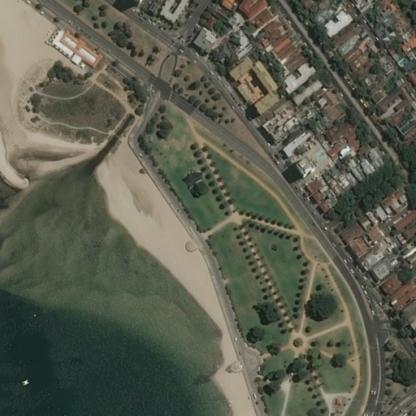ship: (17, 376, 33, 388)
